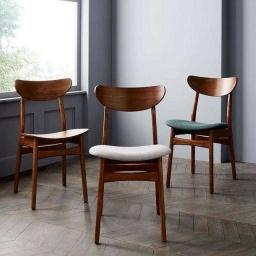Chair: (89, 83, 169, 245), (13, 80, 89, 213), (166, 75, 238, 192)
